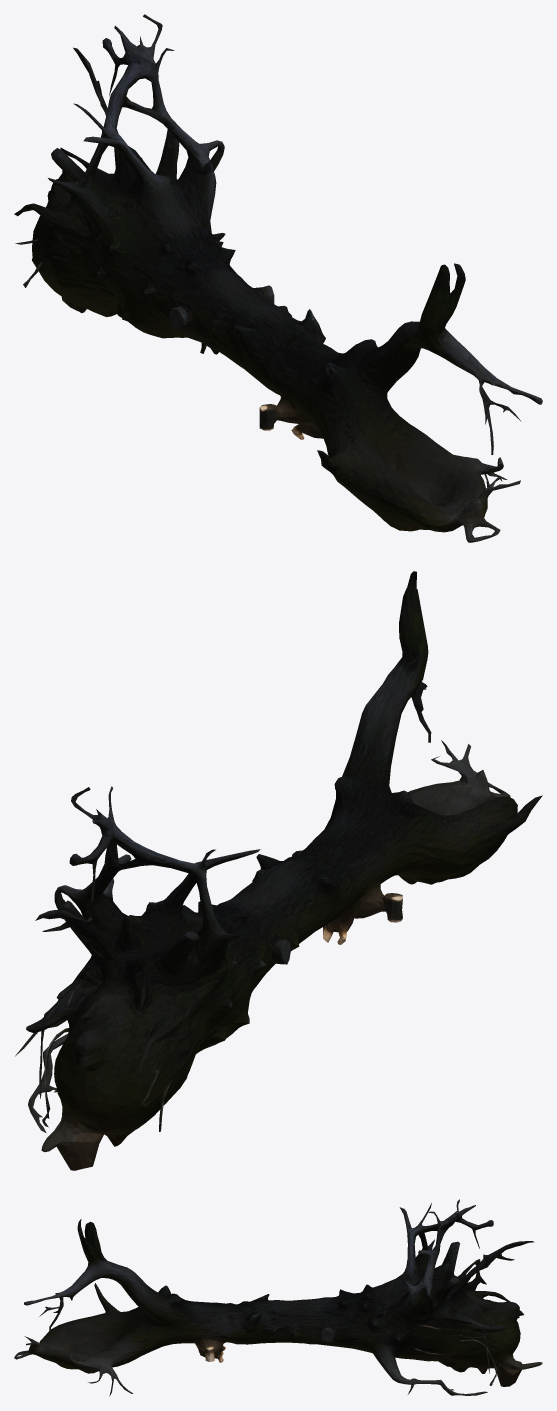
File: fallen+tree+road+3d+model.glb
The picture shows the model from 3 angles, top to bottom: view 1: azimuth 30°, elevation 25°; view 2: azimuth 150°, elevation 25°; view 3: azimuth 270°, elevation 25°; orthographic projection. The views are drawn at different scales.
Visible parts, largest first — view 1: tripo_node_99ffd964-1024-4619-93ee-1d5e1b58f73e; view 2: tripo_node_99ffd964-1024-4619-93ee-1d5e1b58f73e; view 3: tripo_node_99ffd964-1024-4619-93ee-1d5e1b58f73e.
Boxes of the visible parts, left/top/right/bottom form: tripo_node_99ffd964-1024-4619-93ee-1d5e1b58f73e: left=14, top=14, right=542, bottom=542; tripo_node_99ffd964-1024-4619-93ee-1d5e1b58f73e: left=15, top=571, right=542, bottom=1170; tripo_node_99ffd964-1024-4619-93ee-1d5e1b58f73e: left=14, top=1199, right=542, bottom=1396.
Bounding box in the file's own units: 0.2502 × 0.4066 × 0.9948.
Materials: 1 (1 with a texture image).
